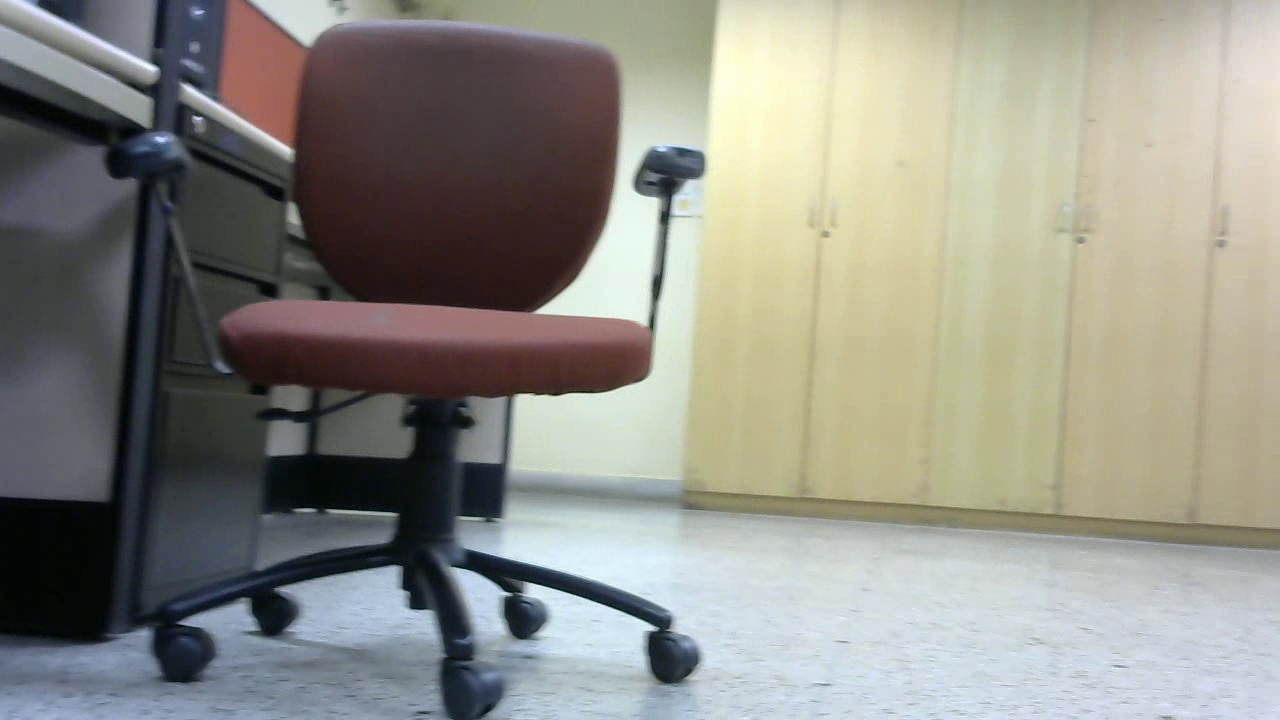chair: (107, 11, 700, 720)
